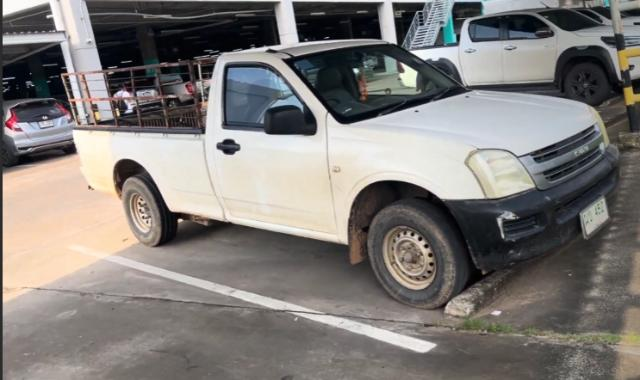pickup-truck: (62, 36, 623, 308)
